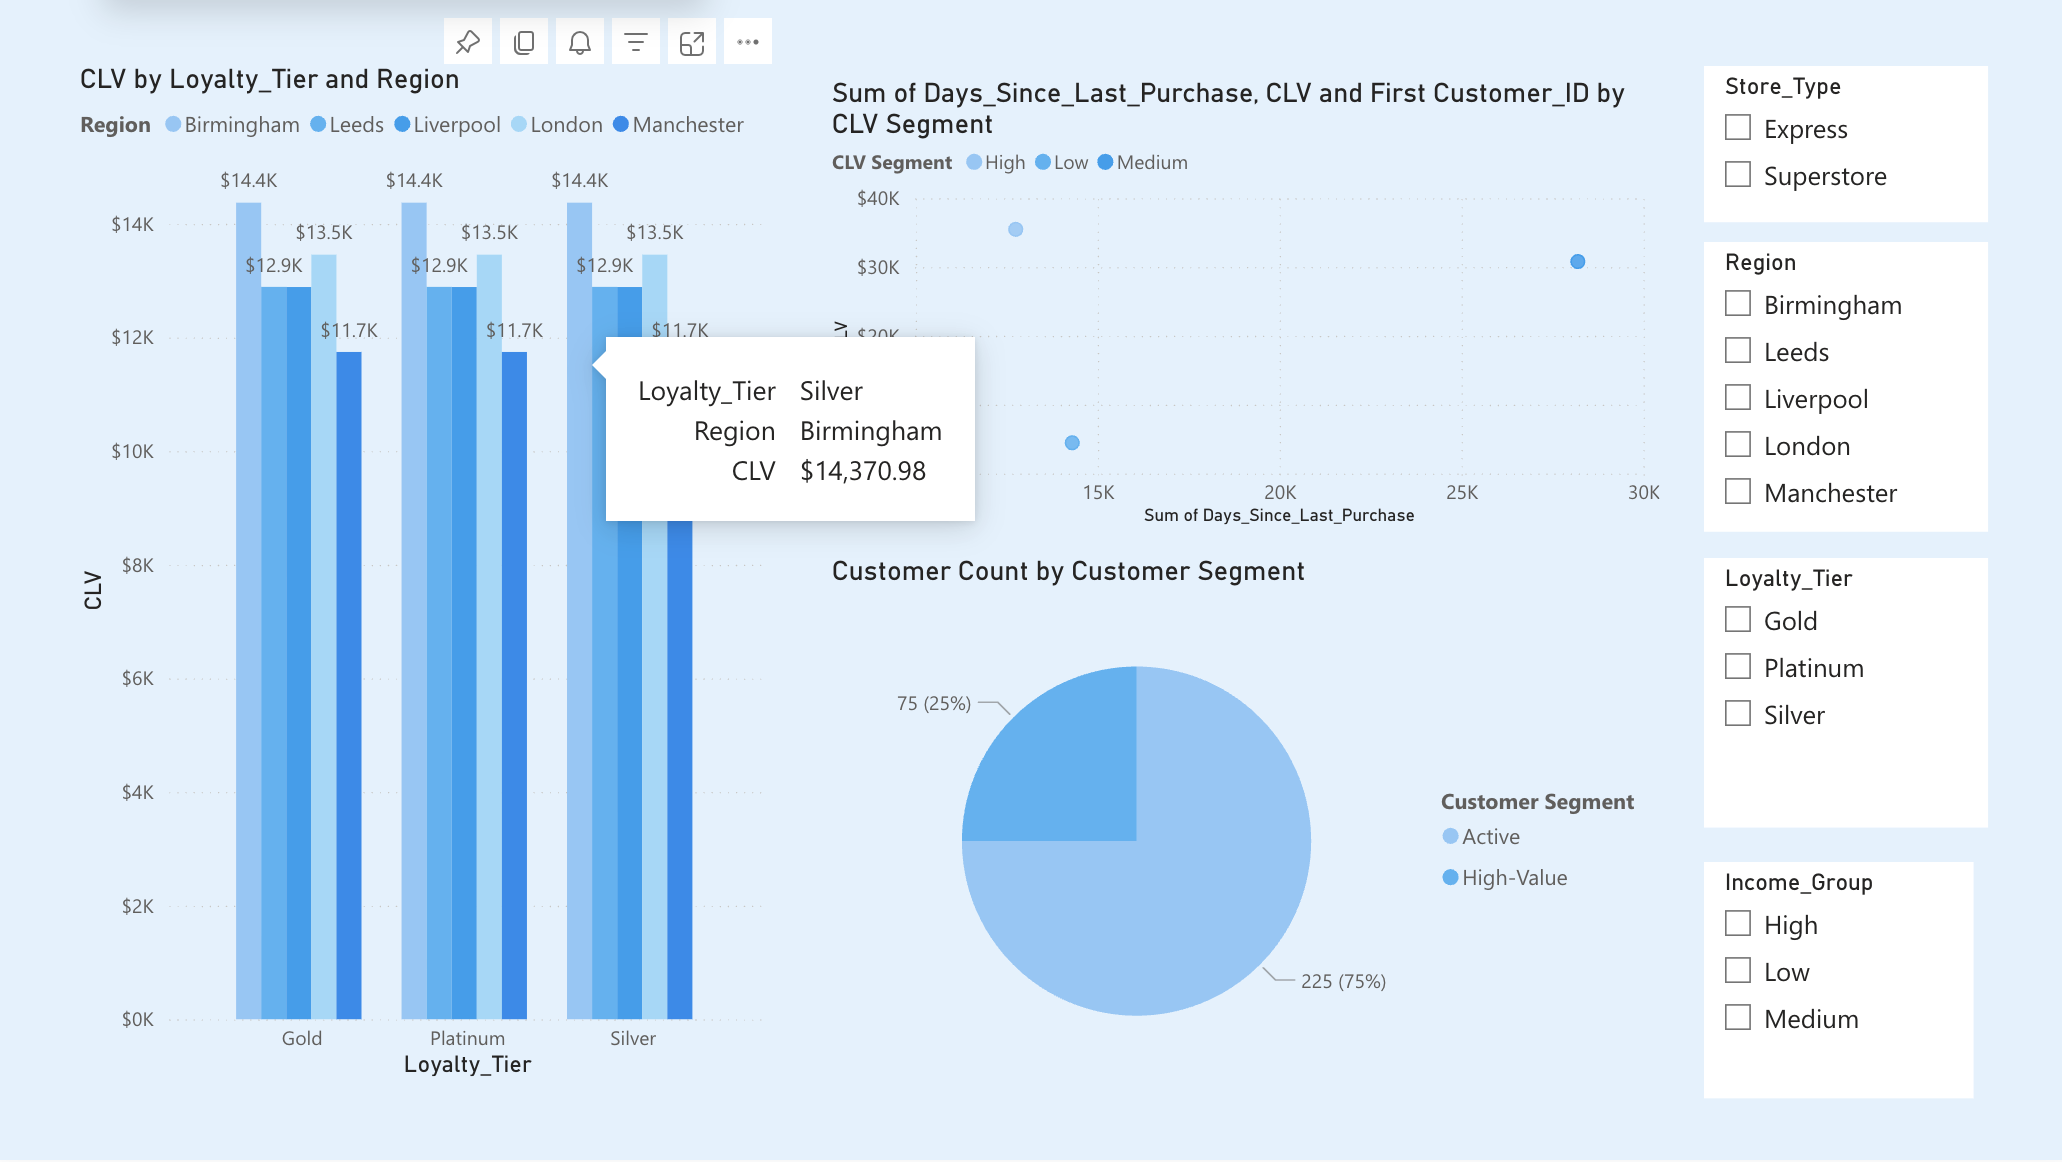

What the dashboard file says about the page in this screenshot:
{"tool":"powerbi","page":{"name":"Customer Segmentation","canvas":[1280,720],"ordinal":8},"visuals":[{"type":"pieChart","fields":{"Category":["Customer_Demographics.Customer Segment"],"Y":["Sample Data.Customer Count"]},"box":[511,348.3,521.2,334.3],"z":0},{"type":"scatterChart","fields":{"X":["Sum(Churn_Labelled_Customers.Days_Since_Last_Purchase)"],"Y":["Sample Data.CLV"],"Series":["Customer_Demographics.CLV Segment"]},"box":[511,53.4,521.2,279.6],"z":1000},{"type":"clusteredColumnChart","fields":{"Category":["Loyalty_Program.Loyalty_Tier"],"Y":["Sample Data.CLV"],"Series":["Customer_Demographics.Region"]},"box":[47,44.5,433.4,629.2],"z":2000},{"type":"slicer","fields":{"Values":["Customer_Demographics.Income_Group"]},"box":[1055,536.4,166.5,146.2],"z":3000},{"type":"slicer","fields":{"Values":["Loyalty_Program.Loyalty_Tier"]},"box":[1055,348.3,175.4,166.5],"z":4000},{"type":"slicer","fields":{"Values":["Customer_Demographics.Region"]},"box":[1055,153.8,175.4,179.2],"z":5000},{"type":"slicer","fields":{"Values":["Store_Locations.Store_Type"]},"box":[1055,44.5,175.4,96.6],"z":6000}]}

Visuals, with their boxes on the page's 1280x720 design canvas (x1, y1, x2, y2). These are canvas units, not pixel positions in the 2062x1162 screenshot, which may show the page scaled, cropped or inside an application window:
pieChart - Customer_Demographics.Customer Segment x Sample Data.Customer Count: (x1=511, y1=348, x2=1032, y2=683)
scatterChart - Sum(Churn_Labelled_Customers.Days_Since_Last_Purchase) x Sample Data.CLV: (x1=511, y1=53, x2=1032, y2=333)
clusteredColumnChart - Loyalty_Program.Loyalty_Tier x Sample Data.CLV: (x1=47, y1=44, x2=480, y2=674)
slicer - Customer_Demographics.Income_Group: (x1=1055, y1=536, x2=1222, y2=683)
slicer - Loyalty_Program.Loyalty_Tier: (x1=1055, y1=348, x2=1230, y2=515)
slicer - Customer_Demographics.Region: (x1=1055, y1=154, x2=1230, y2=333)
slicer - Store_Locations.Store_Type: (x1=1055, y1=44, x2=1230, y2=141)
